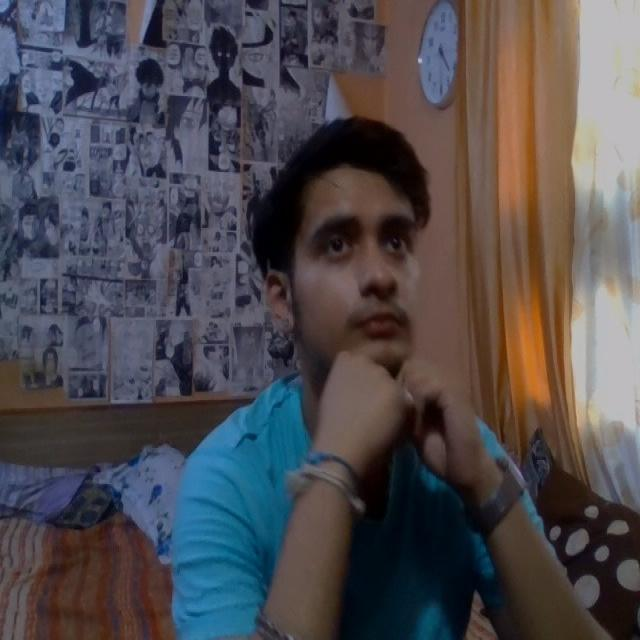idle: (164, 150, 617, 640)
